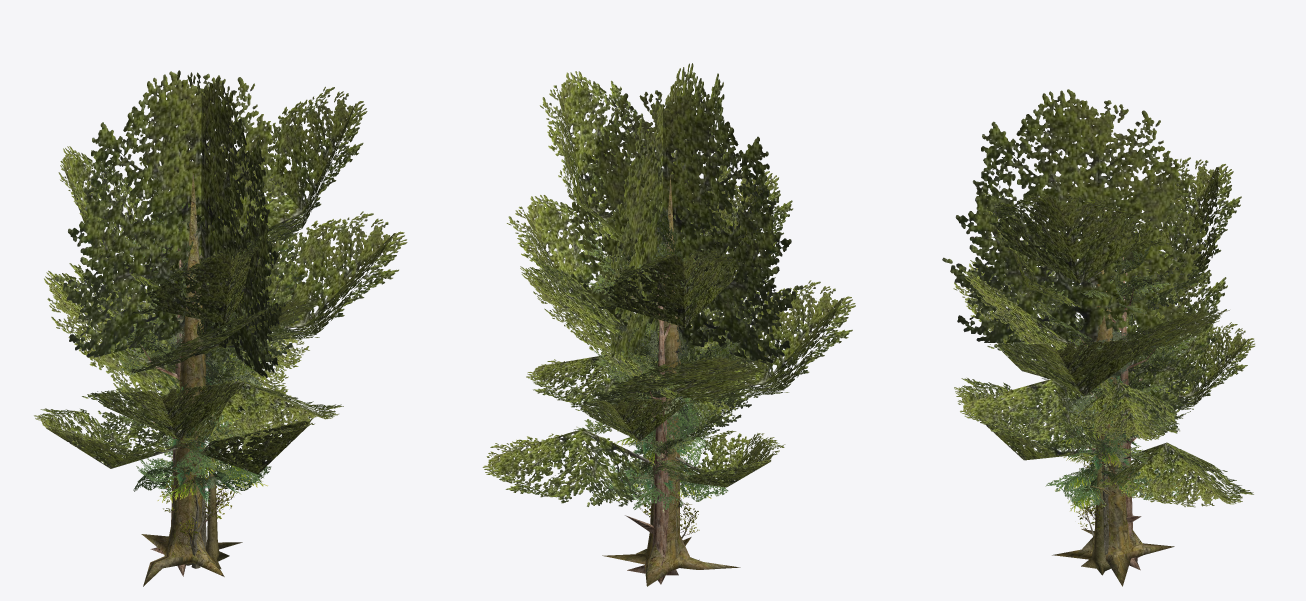
Rendered from trees.glb.
3 renders of one model, left to right at view 1: azimuth 30°, elevation 25°; view 2: azimuth 150°, elevation 25°; view 3: azimuth 270°, elevation 25°, orthographic. The views are drawn at different scales.
Visible parts, largest first — view 1: Tree, Tree_1, Tree_6, Tree_5, Tree_7, Tree_2, Tree_3; view 2: Tree, Tree_1, Tree_6, Tree_7; view 3: Tree, Tree_1, Tree_5, Tree_6, Tree_7, Tree_4.
Boxes of the visible parts, box(x1,y1,x2,y2) form: Tree: box(34, 70, 407, 586); Tree_1: box(111, 185, 272, 576); Tree_6: box(133, 370, 271, 565); Tree_5: box(157, 373, 267, 568); Tree_7: box(150, 316, 261, 548); Tree_2: box(159, 463, 238, 568); Tree_3: box(167, 360, 240, 536); Tree: box(482, 63, 855, 586); Tree_1: box(561, 207, 740, 584); Tree_6: box(602, 384, 728, 512); Tree_7: box(619, 325, 691, 486); Tree: box(942, 89, 1254, 586); Tree_1: box(1024, 207, 1196, 570); Tree_5: box(1055, 384, 1149, 575); Tree_6: box(1045, 377, 1182, 508); Tree_7: box(1055, 328, 1150, 554); Tree_4: box(1081, 366, 1140, 498).
Size of the model in its own units: 15.56 by 19.89 by 14.08.
Materials: 14 (14 with a texture image).
